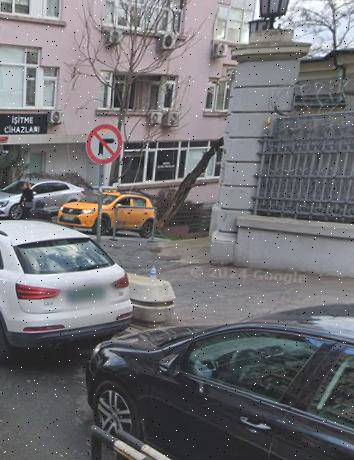leftturnsareforbidden: (85, 120, 126, 165)
